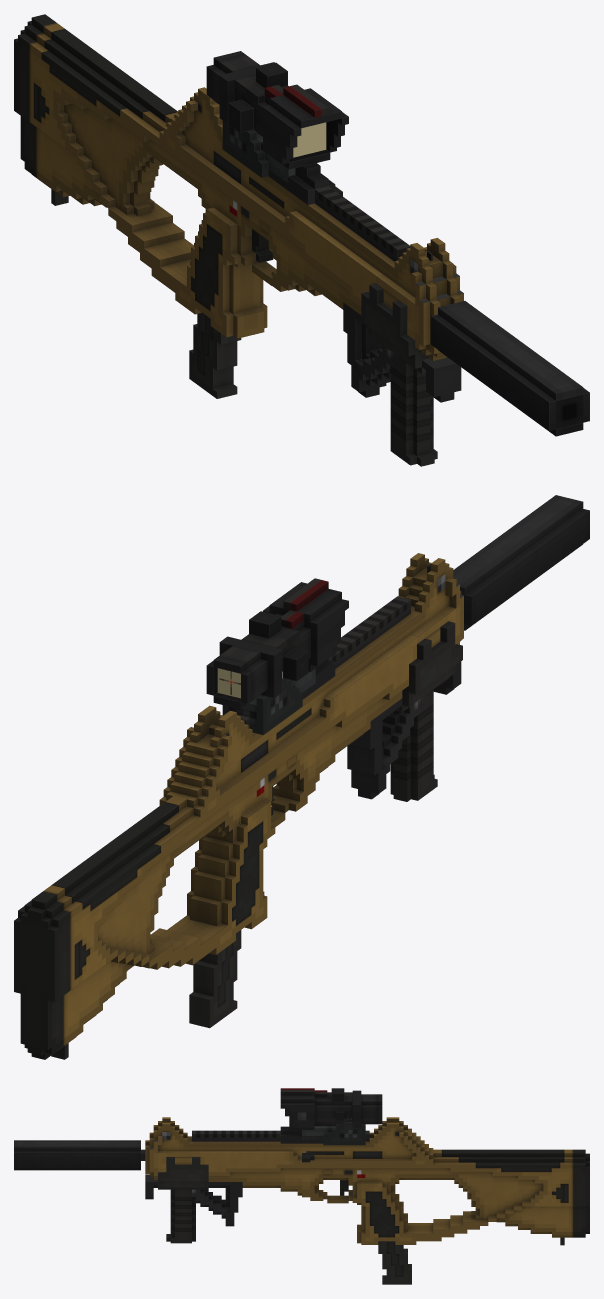
File: RD_BERETTA_MX4.glb
3 views of the same model, one above another, from view 1: azimuth 30°, elevation 25°; view 2: azimuth 150°, elevation 25°; view 3: azimuth 270°, elevation 25° (orthographic). The views are drawn at different scales.
Parts seen in each view (by area): view 1: BERETTA_MX4, SCOPE_ACOG, SILENCER_6X6, BERETTA_MX4_GRIP, GRIP3, BERETTA_MX4_CLIP, SCOPE_EOTECH; view 2: BERETTA_MX4, SCOPE_ACOG, SILENCER_6X6, BERETTA_MX4_GRIP, GRIP3, BERETTA_MX4_CLIP, SCOPE_EOTECH; view 3: BERETTA_MX4, SCOPE_ACOG, SILENCER_6X6, BERETTA_MX4_GRIP, GRIP3, BERETTA_MX4_CLIP, SCOPE_EOTECH.
Part boxes in pixels (x1,y1,x2,y2): BERETTA_MX4: (14, 14, 463, 360); SCOPE_ACOG: (206, 51, 348, 204); SILENCER_6X6: (431, 301, 589, 436); BERETTA_MX4_GRIP: (361, 283, 437, 466); GRIP3: (343, 302, 461, 402); BERETTA_MX4_CLIP: (189, 312, 241, 398); SCOPE_EOTECH: (222, 120, 295, 183); BERETTA_MX4: (14, 553, 463, 1059); SCOPE_ACOG: (206, 578, 348, 709); SILENCER_6X6: (453, 495, 589, 630); BERETTA_MX4_GRIP: (390, 621, 462, 801); GRIP3: (347, 661, 461, 799); BERETTA_MX4_CLIP: (189, 930, 241, 1028); SCOPE_EOTECH: (222, 669, 315, 735); BERETTA_MX4: (141, 1117, 589, 1245); SCOPE_ACOG: (280, 1088, 382, 1143); SILENCER_6X6: (14, 1140, 140, 1170); BERETTA_MX4_GRIP: (158, 1157, 208, 1243); GRIP3: (145, 1174, 242, 1226); BERETTA_MX4_CLIP: (378, 1241, 411, 1284); SCOPE_EOTECH: (302, 1118, 365, 1145).
Bounding box in the file's own units: 0.1083 × 0.492 × 1.34.
7 materials, 7 textured.
